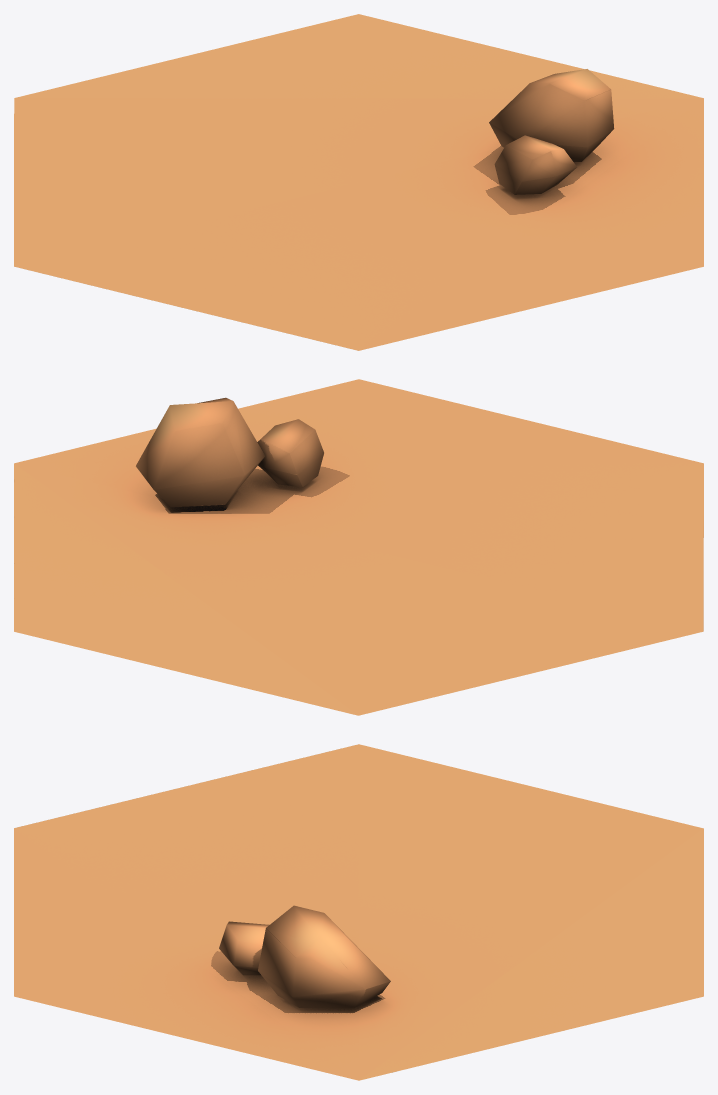
File: sand_rock_tile.fbx
The picture shows the model from 3 angles, top to bottom: view 1: azimuth 30°, elevation 25°; view 2: azimuth 150°, elevation 25°; view 3: azimuth 270°, elevation 25°; orthographic projection.
Visible parts, largest first — view 1: Cube; view 2: Cube; view 3: Cube.
Part boxes in pixels (x1,y1,x2,y2): Cube: [14, 14, 703, 350]; Cube: [14, 379, 703, 715]; Cube: [14, 744, 703, 1080].
Bounding box in the file's own units: 4 × 0.4655 × 3.46.
